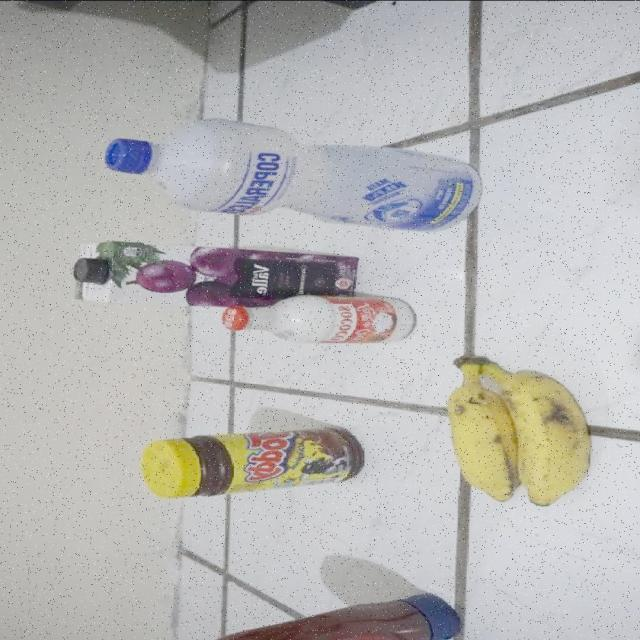AlcoholBottle: (101, 117, 485, 233)
Banana: (446, 350, 592, 508)
ChocolatePowder: (140, 425, 368, 499)
CoconutMilk: (222, 294, 420, 344)
Ketchup: (195, 590, 465, 640)
